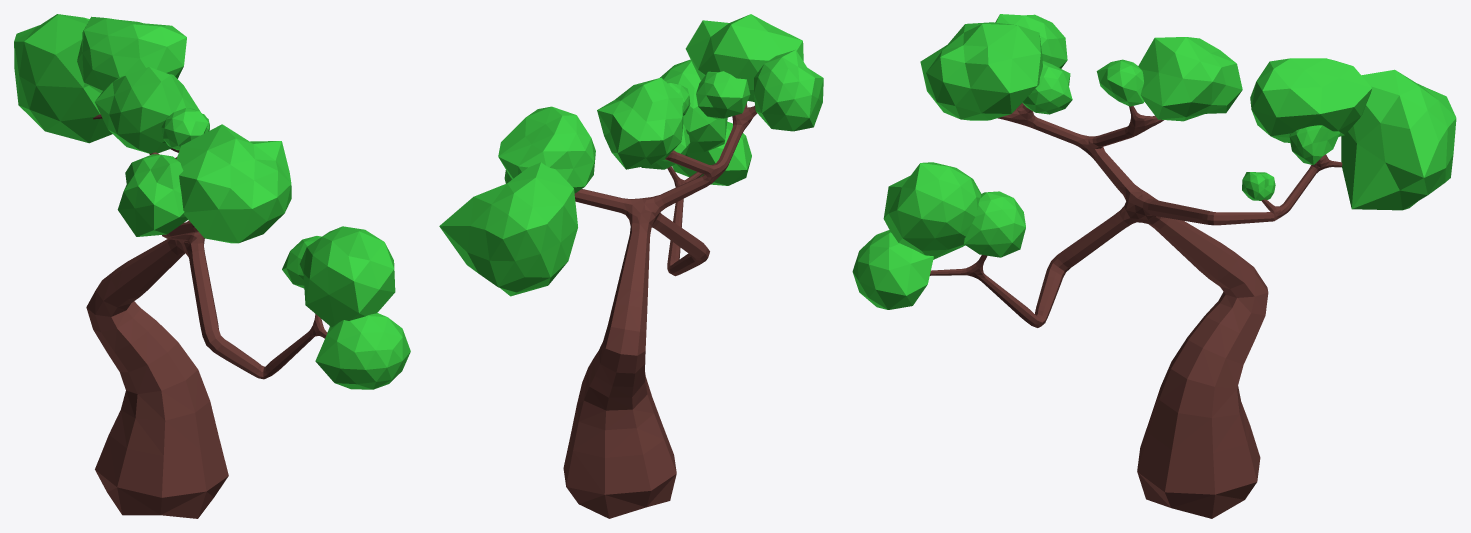
The model's file is boom.dae.
The picture shows the model from 3 angles, left to right: view 1: azimuth 30°, elevation 25°; view 2: azimuth 150°, elevation 25°; view 3: azimuth 270°, elevation 25°; orthographic projection. The views are drawn at different scales.
Visible parts, largest first — view 1: Icosphere_001, Cube; view 2: Icosphere_001, Cube; view 3: Icosphere_001, Cube.
Boxes of the visible parts, x1,y1,x2,y2 form: Icosphere_001: [14, 14, 410, 389]; Cube: [86, 114, 327, 518]; Icosphere_001: [439, 14, 823, 296]; Cube: [563, 103, 757, 518]; Icosphere_001: [852, 14, 1456, 309]; Cube: [930, 103, 1342, 518].
Bounding box in the file's own units: 1.88 × 4.28 × 3.63.
